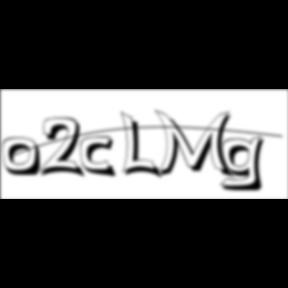2: (39, 117, 89, 181)
L: (121, 110, 165, 182)
M: (154, 108, 238, 181)
c: (81, 136, 121, 180)
g: (220, 134, 272, 194)
o: (2, 137, 44, 179)
